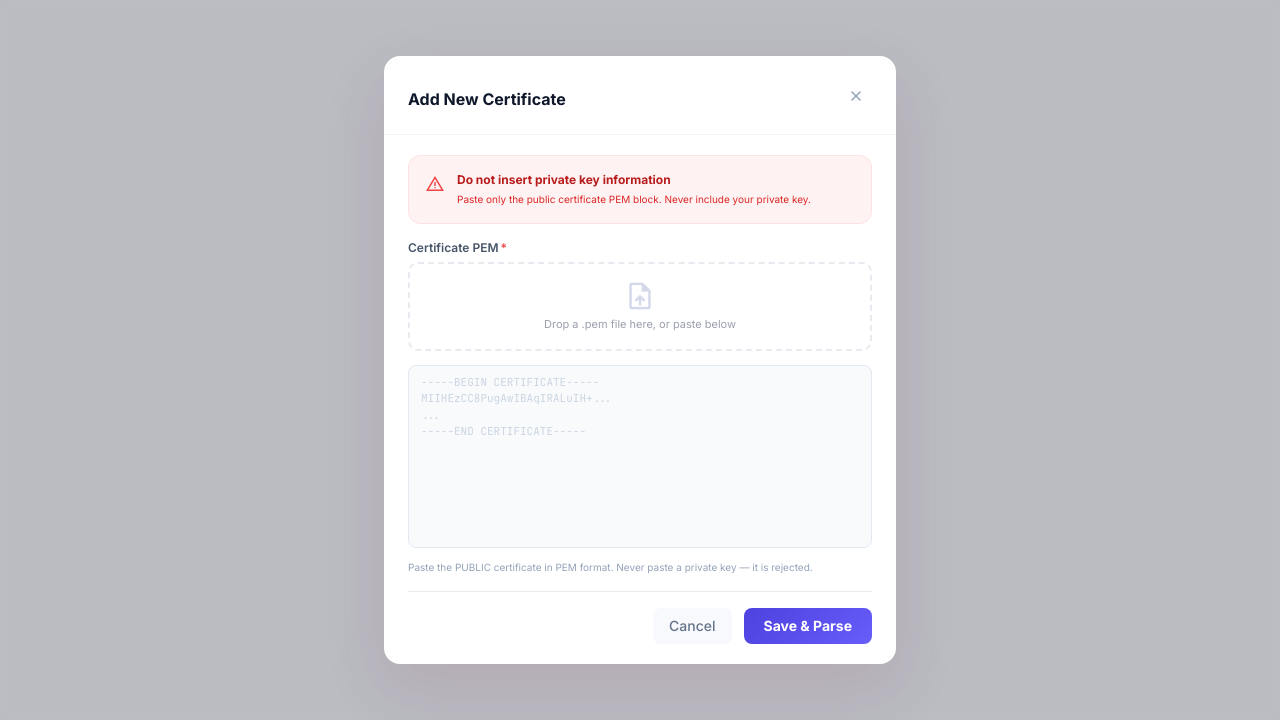
Test: CertificateModal › shows a validation error when submitting empty
The width and height of the screenshot is (1280, 720).
Click the button "Save & Parse". click: (808, 626)
box: [744, 608, 872, 644]
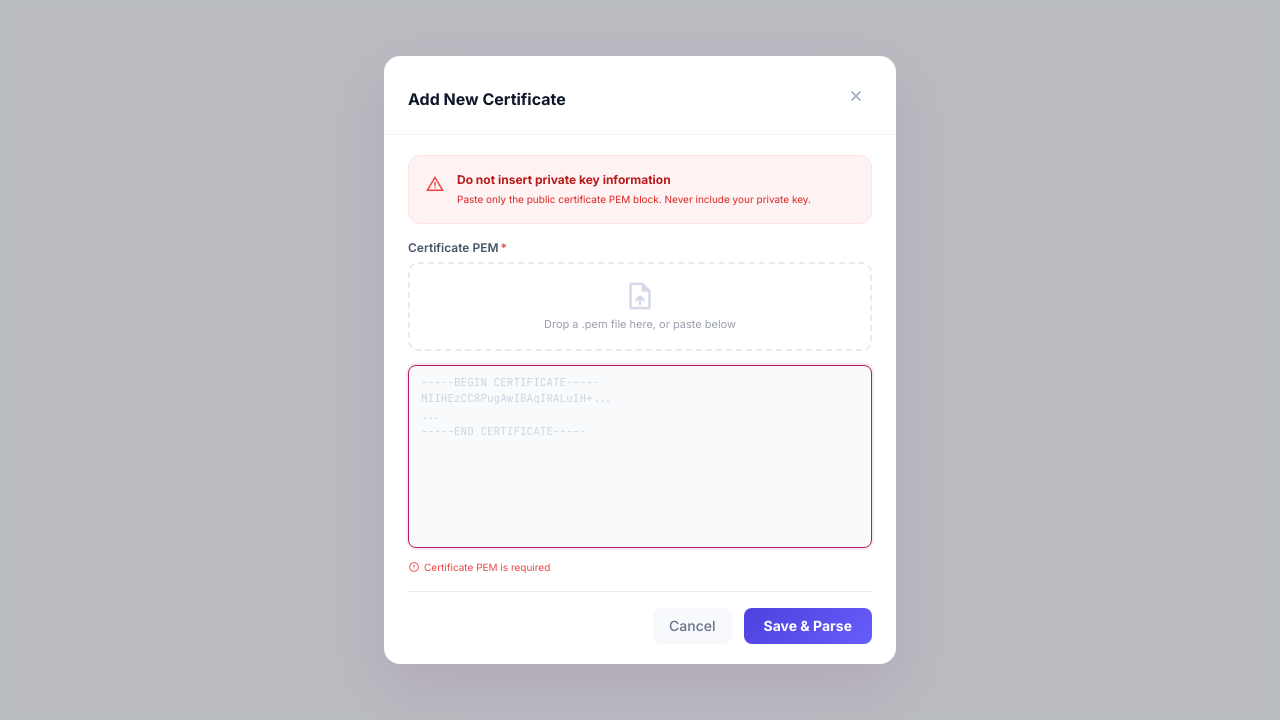
Expected: the text "Certificate PEM is required" is shown, [408, 560, 550, 574]
